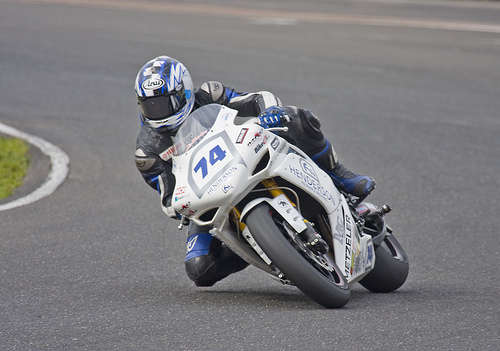helmet: (126, 51, 202, 135)
